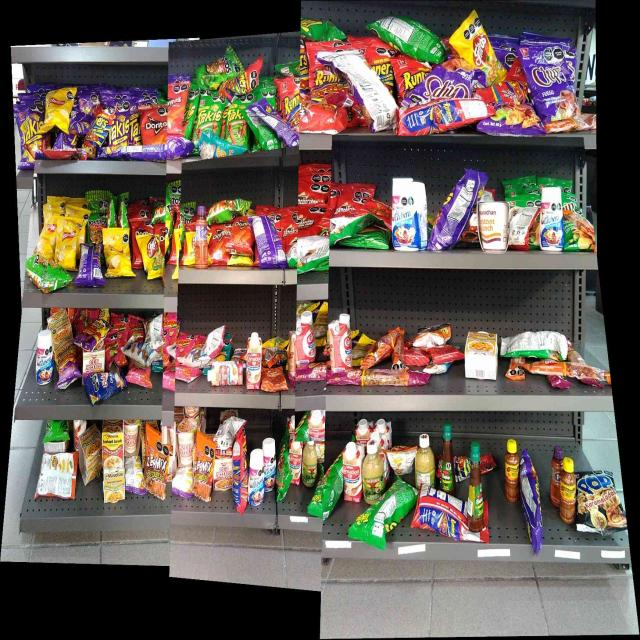bitzEnchilado90: (262, 368, 286, 392)
bitzEnchilado95: (534, 363, 608, 380), (548, 117, 596, 134), (567, 210, 593, 234)
bitzHabanero: (328, 369, 426, 387), (297, 364, 325, 382)
bokadosCacahuates: (87, 373, 124, 396)
botaneraChilito: (560, 459, 576, 524), (504, 441, 519, 502)
cheetosFlaminHot: (57, 356, 79, 388), (81, 321, 107, 346)
chipsFuego: (524, 47, 574, 115), (425, 64, 477, 97)
churrumais: (108, 334, 123, 367)
delPrimoSalsa: (415, 431, 436, 482), (363, 442, 384, 492), (303, 442, 317, 488)
doritosNacho: (141, 105, 167, 143), (168, 84, 186, 135), (229, 217, 252, 256), (209, 224, 227, 265)
fritosLimon: (463, 21, 493, 61), (142, 235, 163, 278)
leoCacahuates: (128, 340, 151, 365)
leoMix: (144, 432, 167, 499), (194, 436, 212, 502)
maruchanPollo: (464, 331, 500, 380), (79, 435, 101, 482), (54, 314, 72, 353), (103, 471, 124, 502)
maruchanRes: (102, 422, 124, 468)
nestleCarnation: (329, 315, 353, 367), (342, 443, 361, 503), (297, 312, 316, 362), (208, 362, 244, 386), (247, 332, 260, 390), (290, 440, 301, 486)
nestleLechera: (393, 177, 419, 250), (540, 187, 563, 250), (36, 333, 52, 384), (248, 450, 262, 506), (264, 440, 276, 491)
nissinCamaron: (177, 421, 193, 465)
nissinRes: (214, 460, 231, 490)
popKarameladas: (577, 472, 623, 534)
productoAtras: (351, 58, 388, 133), (417, 484, 465, 537), (402, 100, 478, 130), (439, 185, 474, 250), (383, 17, 440, 54), (362, 493, 410, 535), (503, 331, 568, 361), (521, 457, 541, 546), (252, 106, 292, 148), (38, 454, 76, 498), (254, 215, 282, 266), (232, 434, 246, 513), (298, 236, 329, 271), (512, 206, 536, 249), (80, 247, 102, 286), (118, 146, 166, 163), (387, 446, 413, 476), (126, 455, 143, 495), (174, 468, 193, 498), (206, 326, 225, 354), (216, 418, 231, 449), (147, 316, 165, 339)
rancheritos: (301, 101, 345, 133)
runners: (92, 107, 112, 148)
sabritasOriginal: (105, 228, 132, 279), (57, 218, 78, 268), (46, 92, 72, 130), (40, 214, 56, 257)
salsaBufalo: (467, 441, 484, 532), (441, 422, 456, 482)
semillasGirasol: (199, 137, 239, 156)
tajinDulce: (195, 206, 208, 268), (550, 445, 559, 507)
takisFuego: (18, 104, 44, 168), (114, 101, 129, 145)
takisOriginal: (198, 96, 224, 135), (228, 102, 246, 136)
tostitos: (197, 52, 234, 86), (33, 259, 56, 290), (89, 210, 104, 244)
